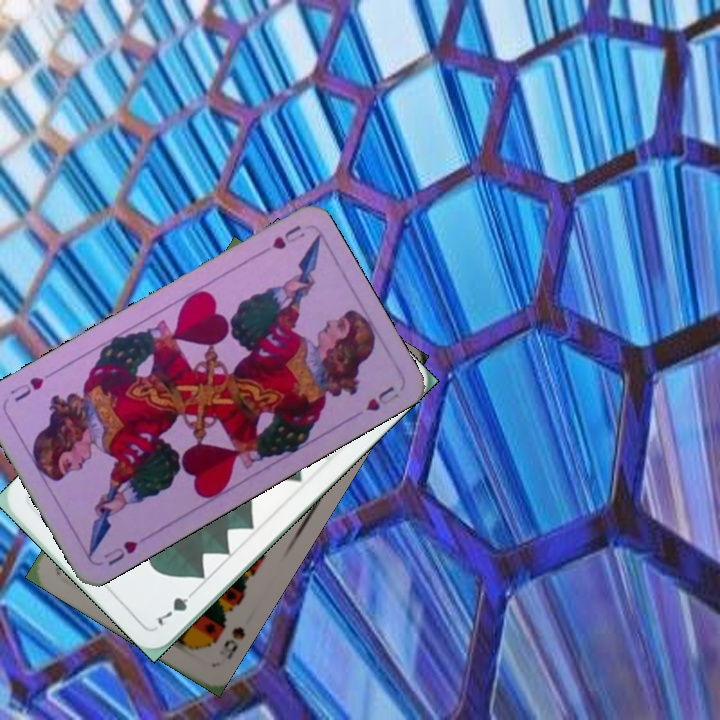G7: (153, 584, 200, 629)
HU: (253, 221, 308, 259), (99, 531, 151, 568)
S8: (219, 622, 248, 662)
